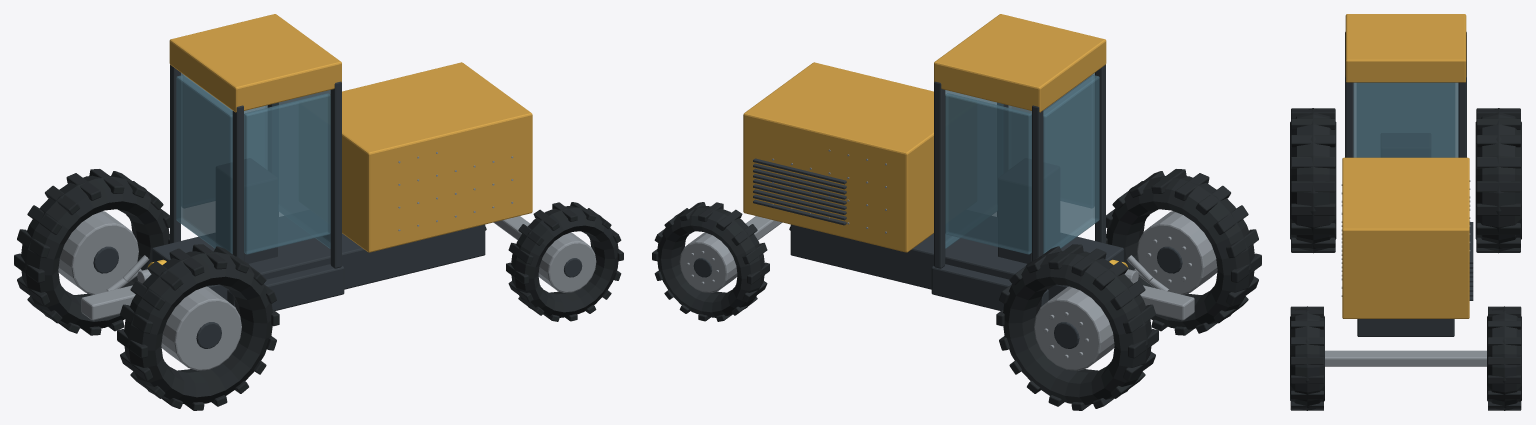
File: kubota-m8-201-structural-study.glb
3 renders of one model, left to right at view 1: azimuth 30°, elevation 25°; view 2: azimuth 150°, elevation 25°; view 3: azimuth 270°, elevation 25°, orthographic. The views are drawn at different scales.
Visible parts, largest first — view 1: Engine_Hood, Cab_R_Glass, Cab_Roof, Rear_R_Tire, Cab_Rear_Glass, Tractor_Main_Frame, Rear_L_Tire, Front_R_Tire, Operator_Seat, Rear_R_Rim, Rear_L_Rim, Cab_Floor (+7 smaller); view 2: Engine_Hood, Cab_L_Glass, Cab_Roof, Rear_L_Tire, Cab_Rear_Glass, Tractor_Main_Frame, Rear_R_Tire, Front_L_Tire, Operator_Seat, Rear_L_Rim, Rear_R_Rim, Cab_Floor (+7 smaller); view 3: Engine_Hood, Cab_Roof, Cab_Front_Glass, Rear_L_Tire, Rear_R_Tire, Front_Axle_Beam, Front_L_Tire, Front_R_Tire, Tractor_Main_Frame, Operator_Seat, Cab_L_Post_F, Cab_R_Post_F (+26 smaller).
Part boxes in pixels (<box>): Engine_Hood: <box>342,62,532,252</box>; Cab_R_Glass: <box>244,93,330,254</box>; Cab_Roof: <box>169,14,341,112</box>; Rear_R_Tire: <box>124,251,272,405</box>; Cab_Rear_Glass: <box>176,75,232,253</box>; Tractor_Main_Frame: <box>152,216,485,300</box>; Rear_L_Tire: <box>21,175,169,329</box>; Front_R_Tire: <box>511,206,618,317</box>; Operator_Seat: <box>216,158,277,263</box>; Rear_R_Rim: <box>161,286,241,370</box>; Rear_L_Rim: <box>58,211,138,294</box>; Cab_Floor: <box>227,264,344,310</box>; Engine_Hood: <box>743,62,933,252</box>; Cab_L_Glass: <box>945,93,1031,254</box>; Cab_Roof: <box>934,14,1106,112</box>; Rear_L_Tire: <box>1003,251,1151,405</box>; Cab_Rear_Glass: <box>1043,75,1099,253</box>; Tractor_Main_Frame: <box>790,216,1123,300</box>; Rear_R_Tire: <box>1106,175,1254,329</box>; Front_L_Tire: <box>657,206,764,317</box>; Operator_Seat: <box>998,158,1059,263</box>; Rear_L_Rim: <box>1034,286,1114,370</box>; Rear_R_Rim: <box>1137,211,1217,294</box>; Cab_Floor: <box>931,264,1048,310</box>; Engine_Hood: <box>1342,157,1469,318</box>; Cab_Roof: <box>1345,14,1466,82</box>; Cab_Front_Glass: <box>1353,82,1458,157</box>; Rear_L_Tire: <box>1475,108,1521,253</box>; Rear_R_Tire: <box>1290,108,1336,253</box>; Front_Axle_Beam: <box>1325,350,1486,366</box>; Front_L_Tire: <box>1487,306,1521,410</box>; Front_R_Tire: <box>1290,306,1324,410</box>; Tractor_Main_Frame: <box>1357,319,1454,336</box>; Operator_Seat: <box>1381,133,1430,156</box>; Cab_L_Post_F: <box>1458,75,1466,157</box>; Cab_R_Post_F: <box>1345,75,1353,157</box>.
Size of the model in its own units: 5.75 by 3.25 by 2.65.
